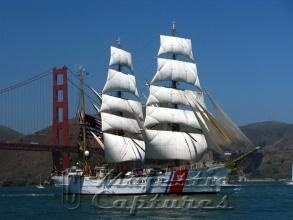fanchuan: (51, 17, 266, 195)
